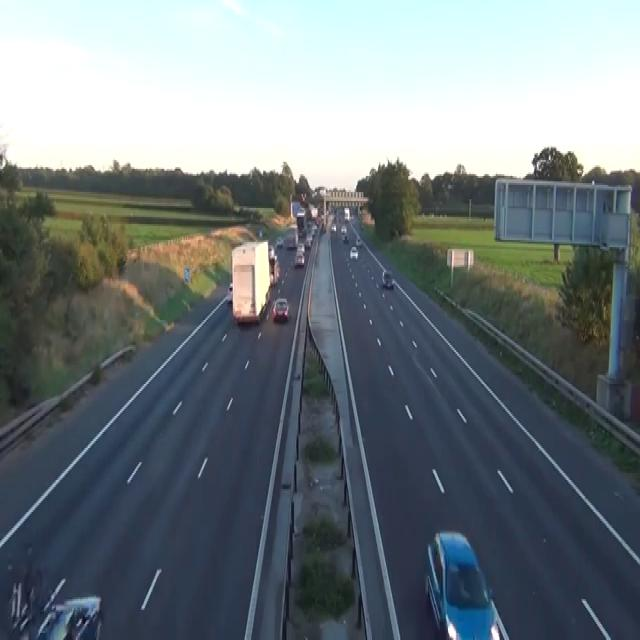Car: (3, 542, 103, 638), (424, 530, 503, 638), (35, 594, 103, 638), (35, 603, 76, 638), (272, 297, 290, 322), (381, 268, 393, 288), (294, 250, 304, 266), (285, 235, 296, 249), (226, 281, 232, 304), (268, 246, 276, 262), (349, 246, 358, 260), (296, 242, 305, 252), (276, 235, 283, 247), (304, 237, 312, 247), (340, 224, 347, 235), (298, 226, 305, 236), (321, 222, 326, 233), (330, 222, 336, 231), (355, 237, 361, 246), (342, 233, 348, 242), (312, 224, 317, 233), (258, 228, 262, 236)
Truck: (230, 238, 270, 324), (268, 246, 278, 284), (285, 224, 298, 249), (296, 206, 306, 236), (291, 201, 300, 217), (344, 207, 349, 220)
